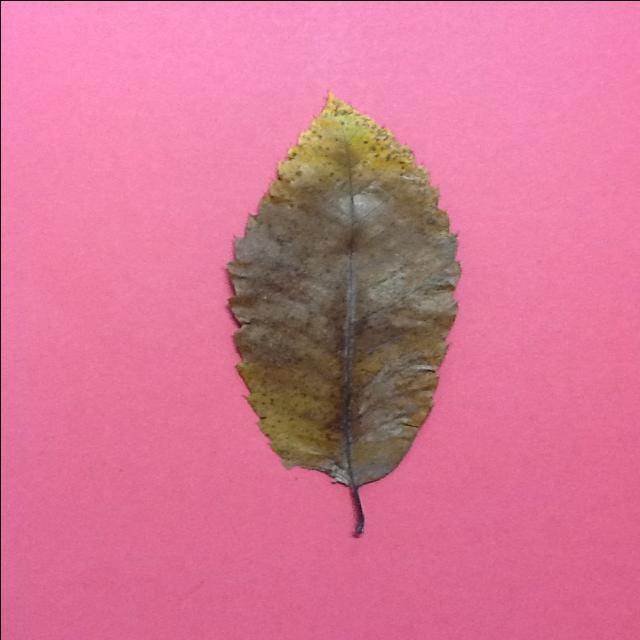foliage: (226, 90, 458, 536)
